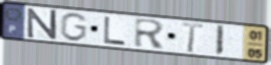G: (59, 12, 90, 43)
I: (214, 24, 226, 57)
L: (103, 15, 128, 47)
N: (26, 8, 59, 41)
R: (133, 17, 167, 50)
T: (181, 21, 206, 54)
